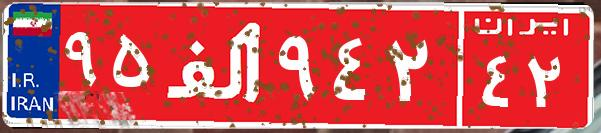2: (385, 28, 445, 110), (525, 38, 570, 115)
4: (330, 28, 385, 110), (475, 38, 525, 113)
5: (110, 28, 158, 105)
9: (273, 28, 330, 110), (57, 26, 110, 107)
الف: (158, 15, 273, 115)
